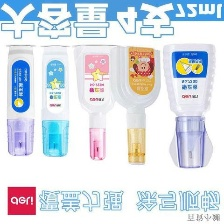correction_fluid: (162, 41, 219, 170), (69, 41, 127, 162), (107, 45, 162, 168), (3, 43, 36, 156), (39, 43, 71, 159)
